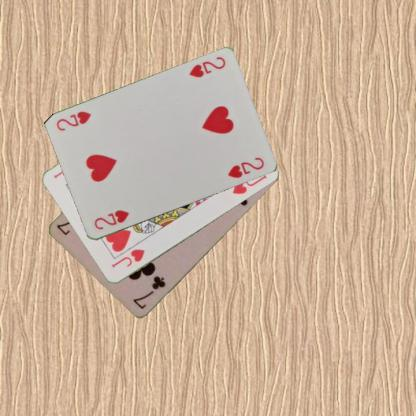2h: (186, 54, 227, 79), (91, 207, 130, 232)
7c: (130, 274, 167, 312)
Jh: (109, 247, 146, 270)
